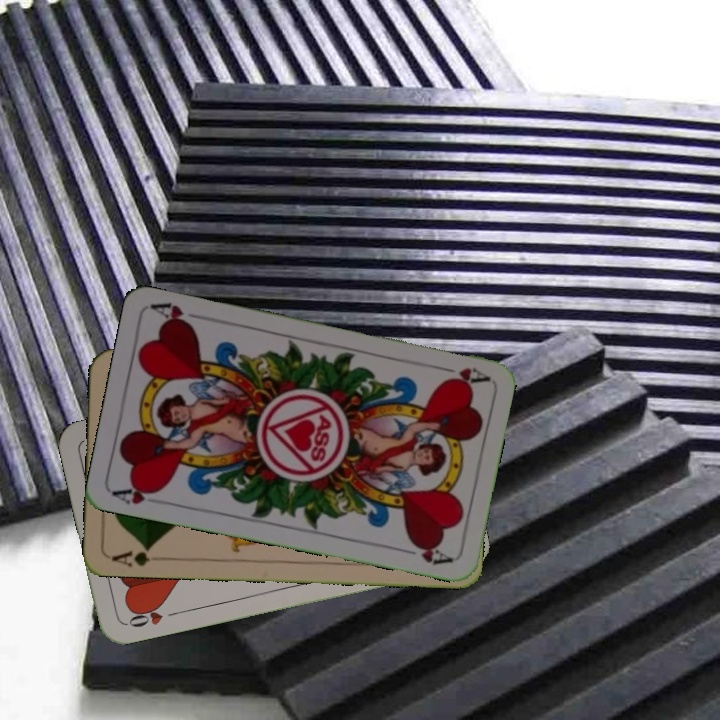GA: (107, 542, 155, 569)
HA: (431, 361, 490, 387), (110, 480, 165, 507)
HO: (123, 600, 181, 630)
